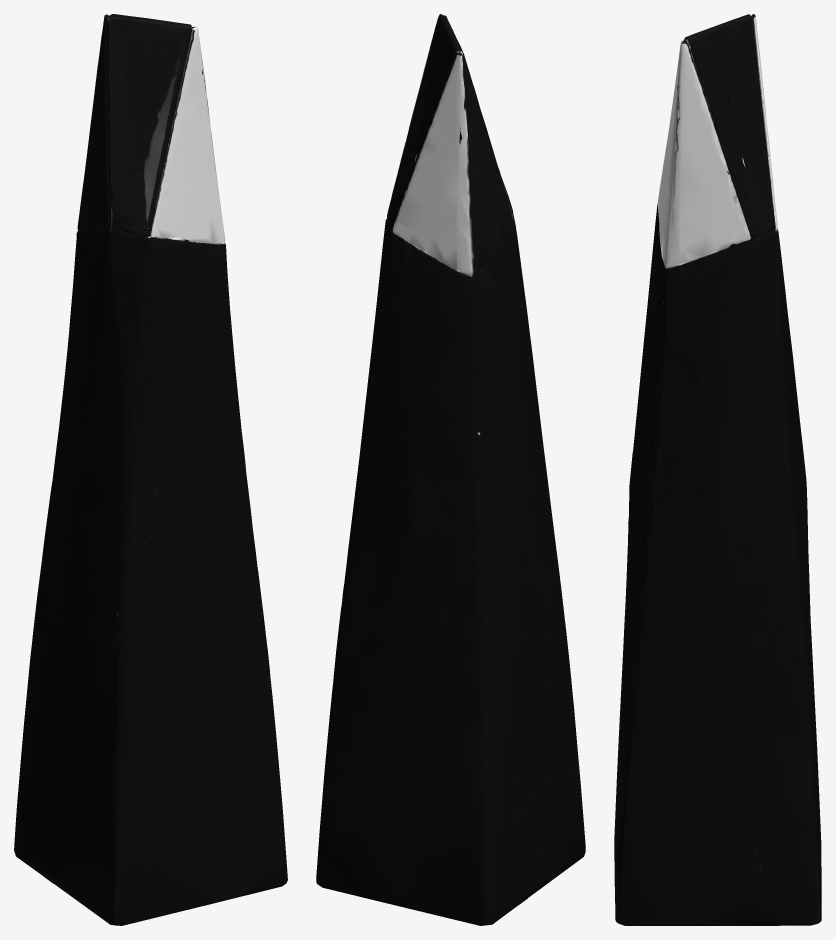
File: bishop-black.glb
The picture shows the model from 3 angles, left to right: view 1: azimuth 30°, elevation 25°; view 2: azimuth 150°, elevation 25°; view 3: azimuth 270°, elevation 25°; orthographic projection. The views are drawn at different scales.
Bounding box in the file's own units: 0.329 × 1.5 × 0.3285.
1 material, 1 textured.
